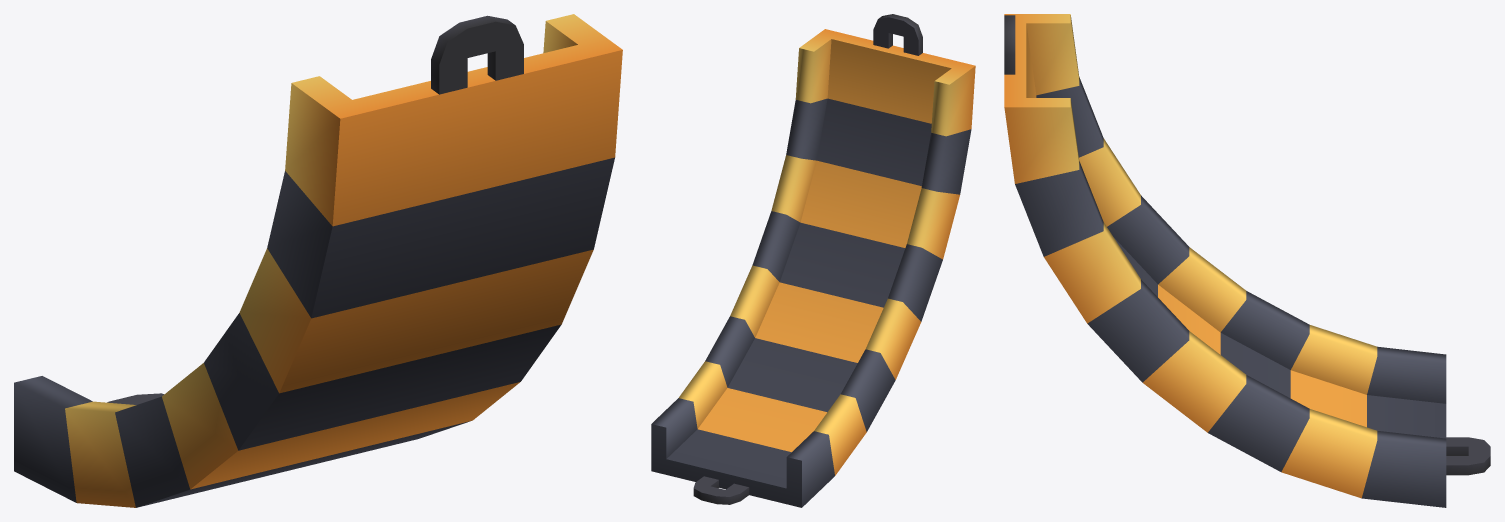
File: track-striped-narrow-straight-bend.fbx
The picture shows the model from 3 angles, left to right: view 1: azimuth 30°, elevation 25°; view 2: azimuth 150°, elevation 25°; view 3: azimuth 270°, elevation 25°; orthographic projection. The views are drawn at different scales.
Parts seen in each view (by area): view 1: track-striped-narrow-straight-bend; view 2: track-striped-narrow-straight-bend; view 3: track-striped-narrow-straight-bend.
Boxes of the visible parts, x1=… form: track-striped-narrow-straight-bend: x1=14, y1=14, x2=622, y2=507; track-striped-narrow-straight-bend: x1=651, y1=14, x2=975, y2=507; track-striped-narrow-straight-bend: x1=1004, y1=14, x2=1490, y2=507.
Bounding box in the file's own units: 100 × 220 × 220.
